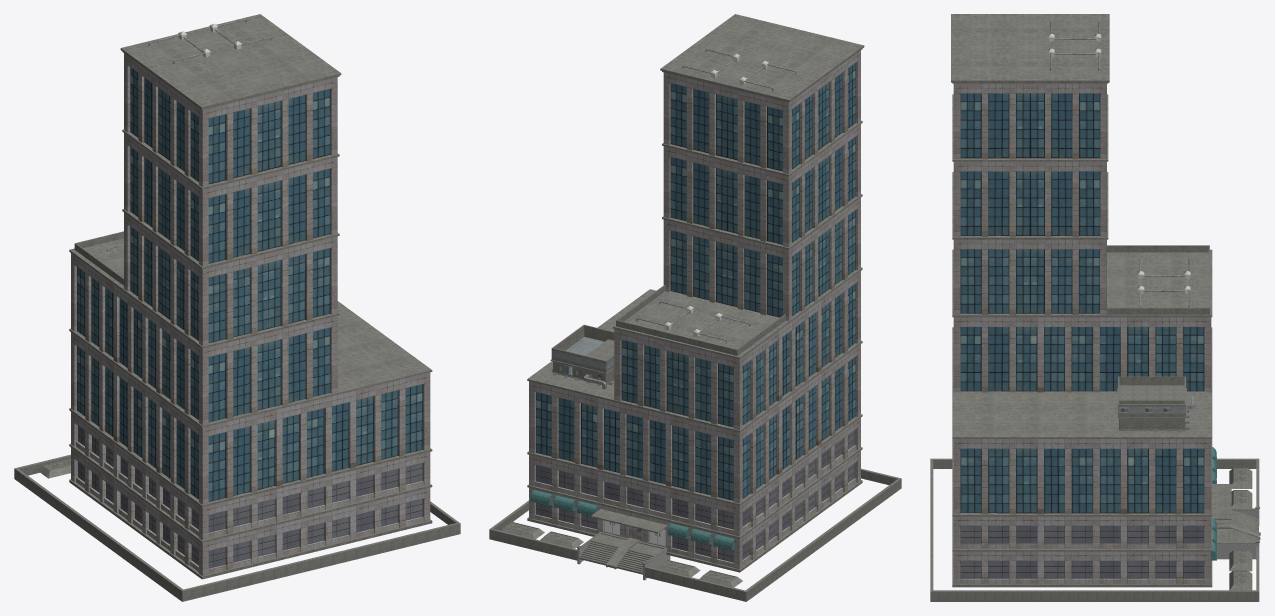
Rendered from u2SEBuild4.gltf.
3 views of the same model, side by side, from view 1: azimuth 30°, elevation 25°; view 2: azimuth 150°, elevation 25°; view 3: azimuth 270°, elevation 25° (orthographic). The views are drawn at different scales.
Visible parts, largest first — view 1: u2SEBuild4; view 2: u2SEBuild4; view 3: u2SEBuild4.
Part boxes in pixels (x1=…): u2SEBuild4: x1=14, y1=14, x2=460, y2=601; u2SEBuild4: x1=489, y1=14, x2=901, y2=601; u2SEBuild4: x1=930, y1=14, x2=1260, y2=601.
Bounding box in the file's own units: 16.47 × 27.72 × 17.29.
Materials: 15 (14 with a texture image).
